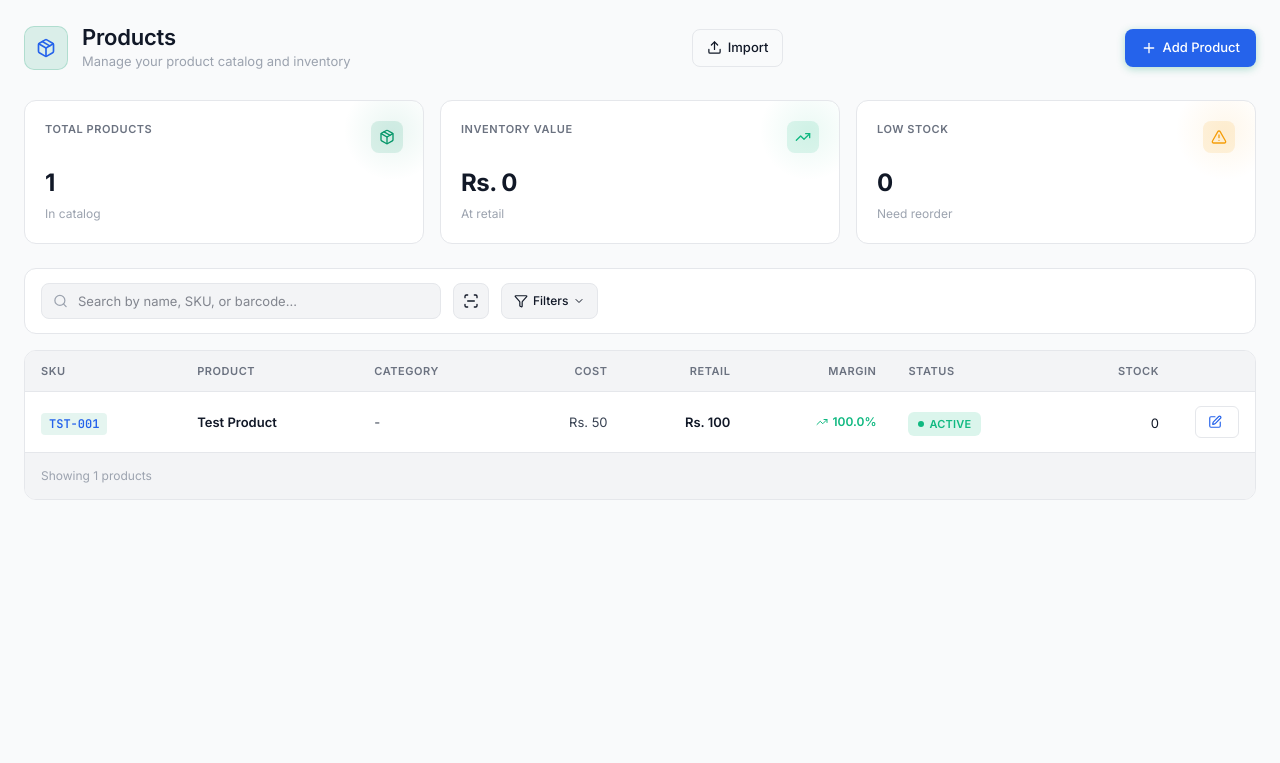
Test case: track_stock radio › pre-populates from product data when editing (true)
This screenshot has width=1280, height=763.
Expected: the text "TST-001" is shown, top-left (41, 413), bottom-right (107, 435)
Click the button named "edit test product": (1217, 422) top-left (1195, 406), bottom-right (1239, 438)
(page scrolled)
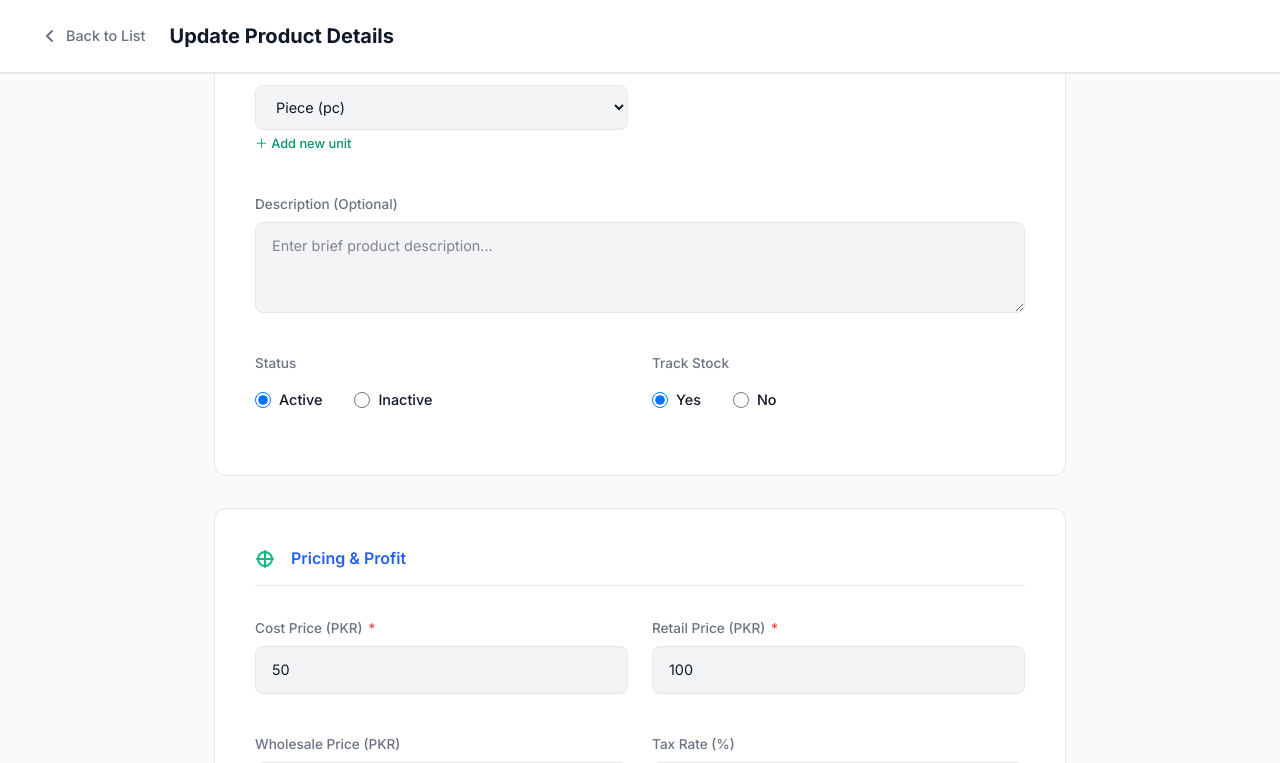
Expected: the radio button labelled "Yes" is checked, top-left (652, 392), bottom-right (668, 408)
Expected: the radio button labelled "No" is not checked, top-left (733, 392), bottom-right (749, 408)
